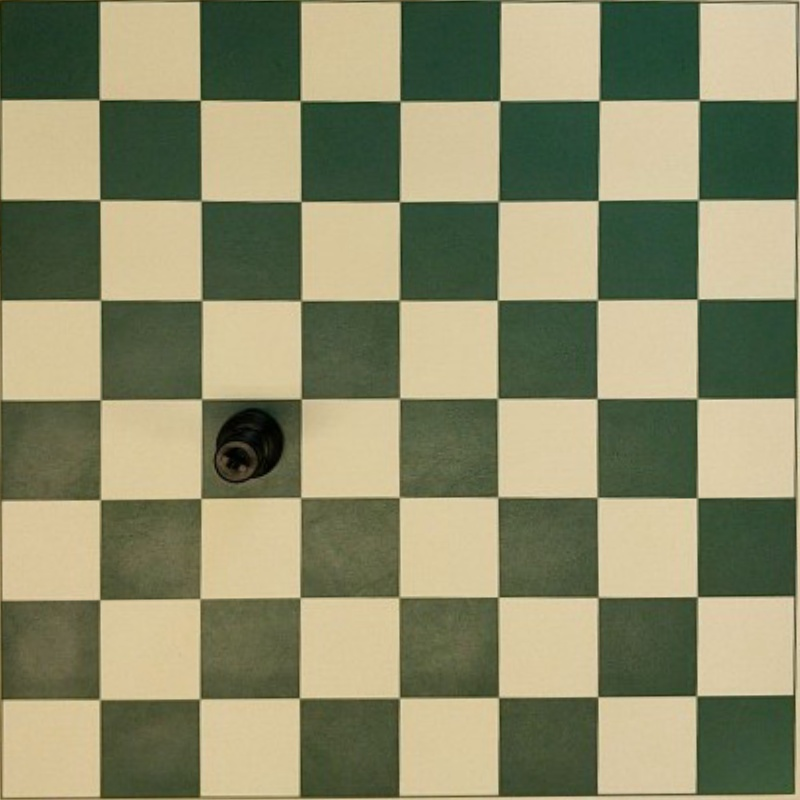black-king: (213, 407, 284, 484)
